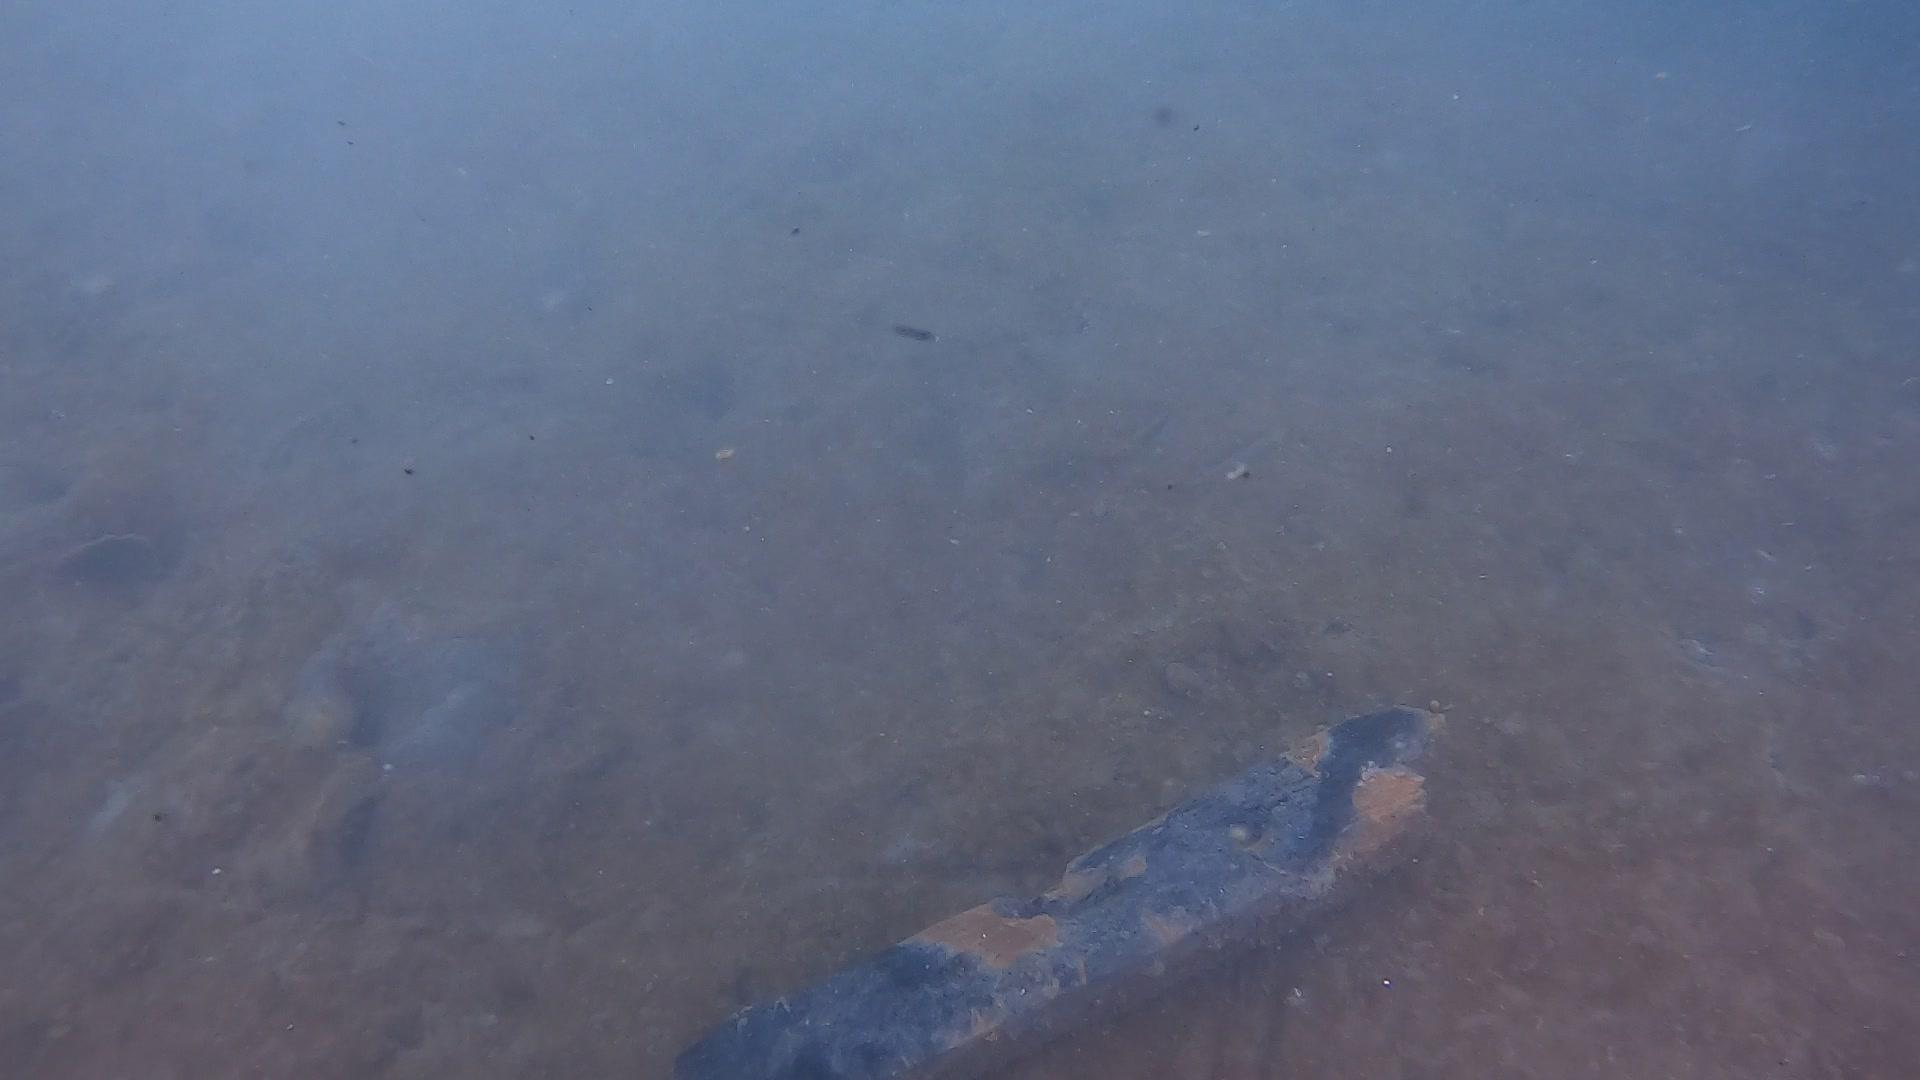wood: (673, 698, 1447, 1080)
